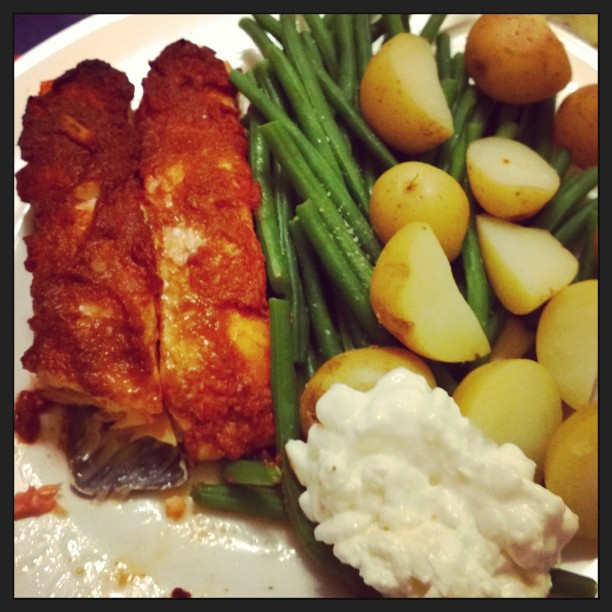boiled potatoes: (353, 36, 590, 366), (474, 131, 605, 542)
